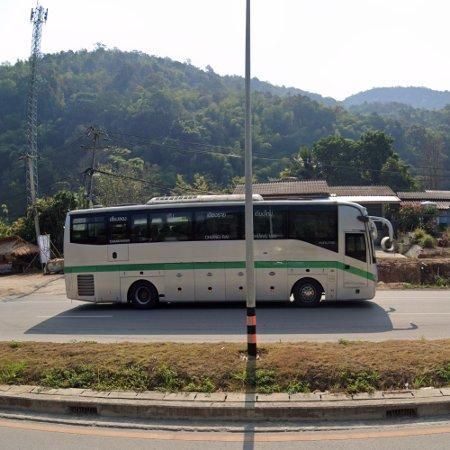buses: (64, 201, 245, 307), (256, 201, 378, 306)
